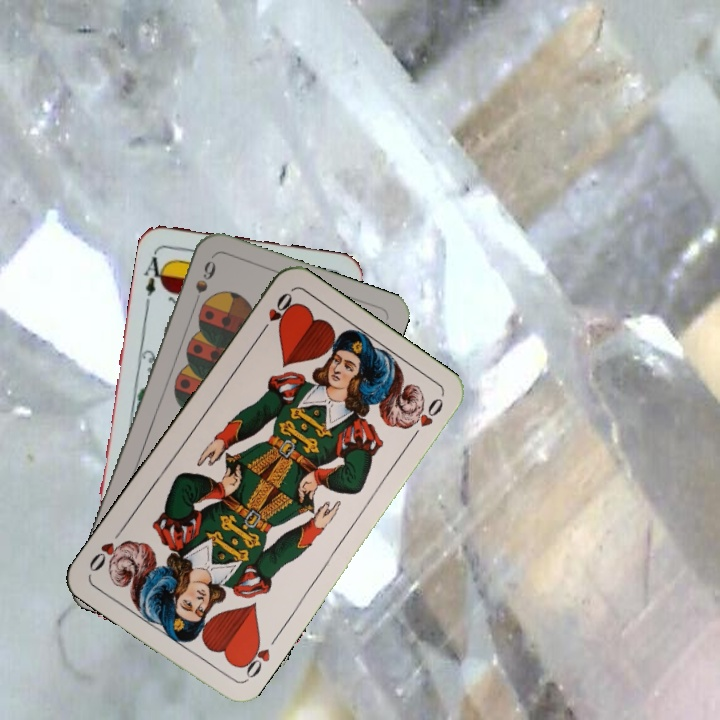EA: (140, 247, 169, 306)
HO: (254, 288, 296, 339), (235, 634, 273, 684)
S9: (188, 256, 219, 312)
